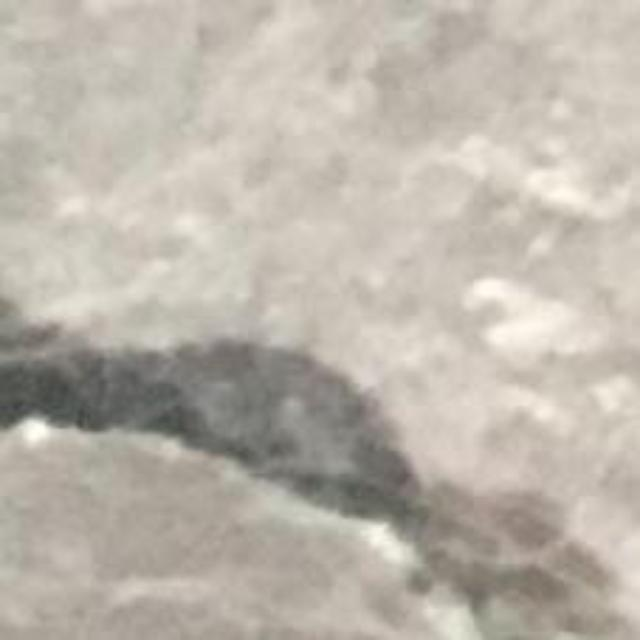crack: (0, 299, 631, 639)
